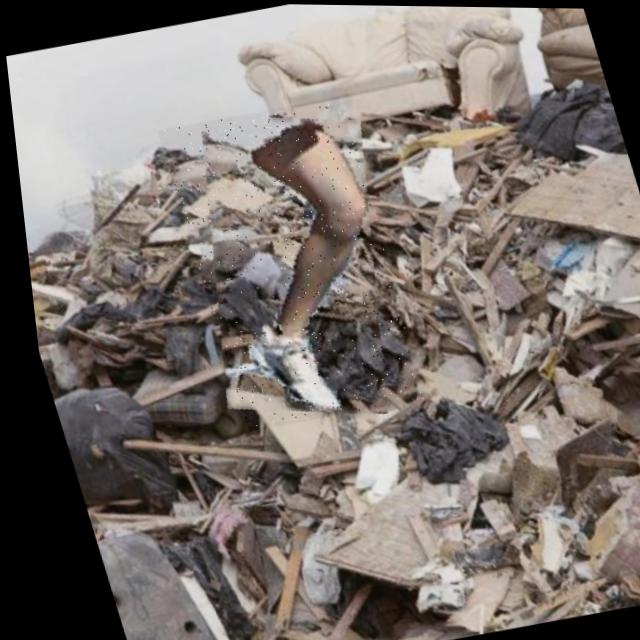Person in Rubble: (151, 94, 424, 433)
